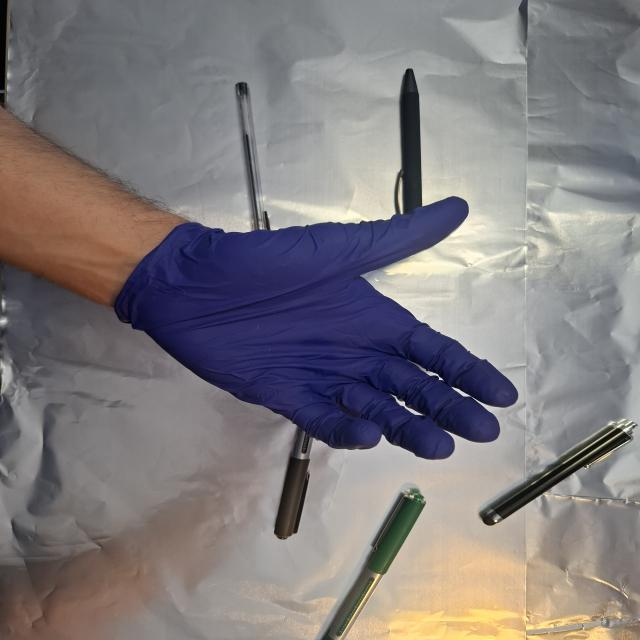glove_on: (112, 193, 525, 463)
